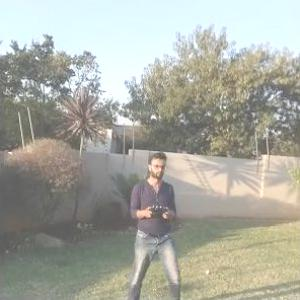follow: (127, 150, 181, 299)
